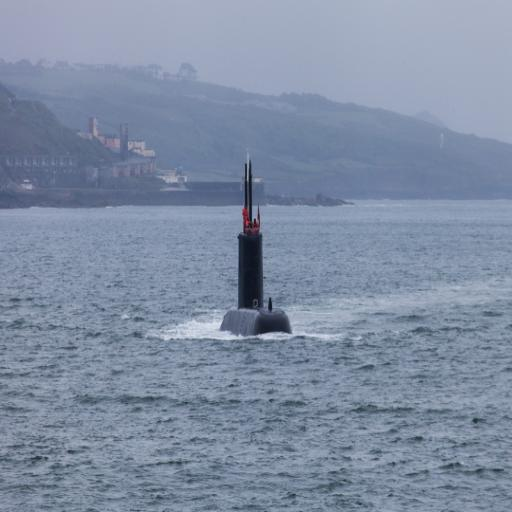submarine: (223, 163, 294, 341)
